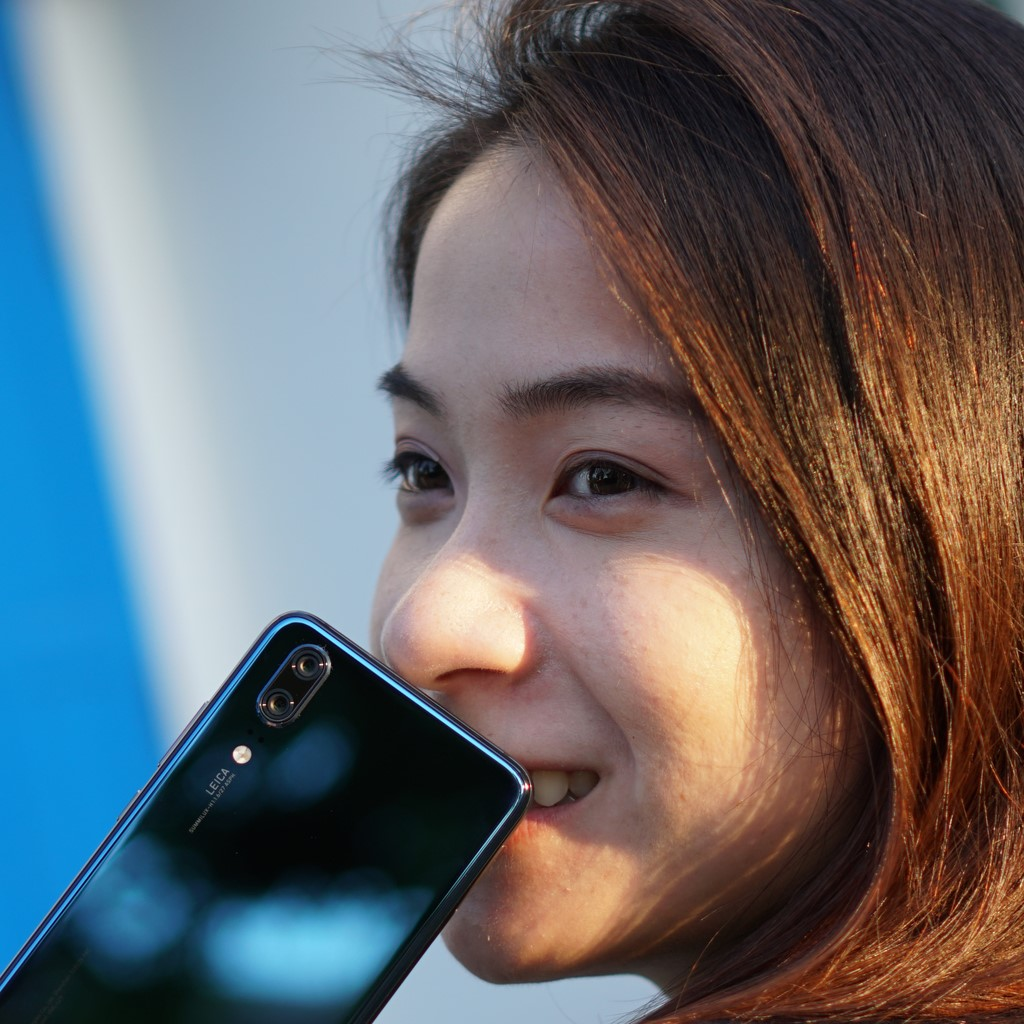sin_mascara: (360, 128, 905, 979)
